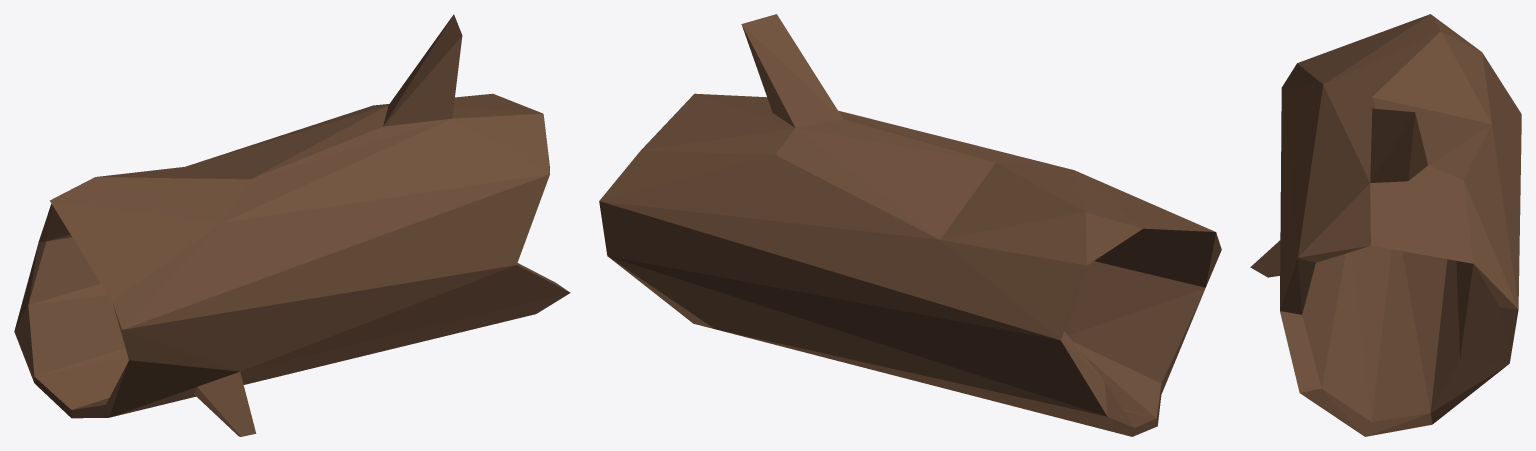
The model's file is DropOffLog_v.1.0.fbx.
The picture shows the model from 3 angles, left to right: view 1: azimuth 30°, elevation 25°; view 2: azimuth 150°, elevation 25°; view 3: azimuth 270°, elevation 25°; orthographic projection. The views are drawn at different scales.
Visible parts, largest first — view 1: Cylinder; view 2: Cylinder; view 3: Cylinder.
Boxes of the visible parts, x1,y1,x2,y2 form: Cylinder: [14, 14, 570, 436]; Cylinder: [599, 14, 1221, 436]; Cylinder: [1250, 14, 1521, 436].
Size of the model in its own units: 425 by 251 by 205.
